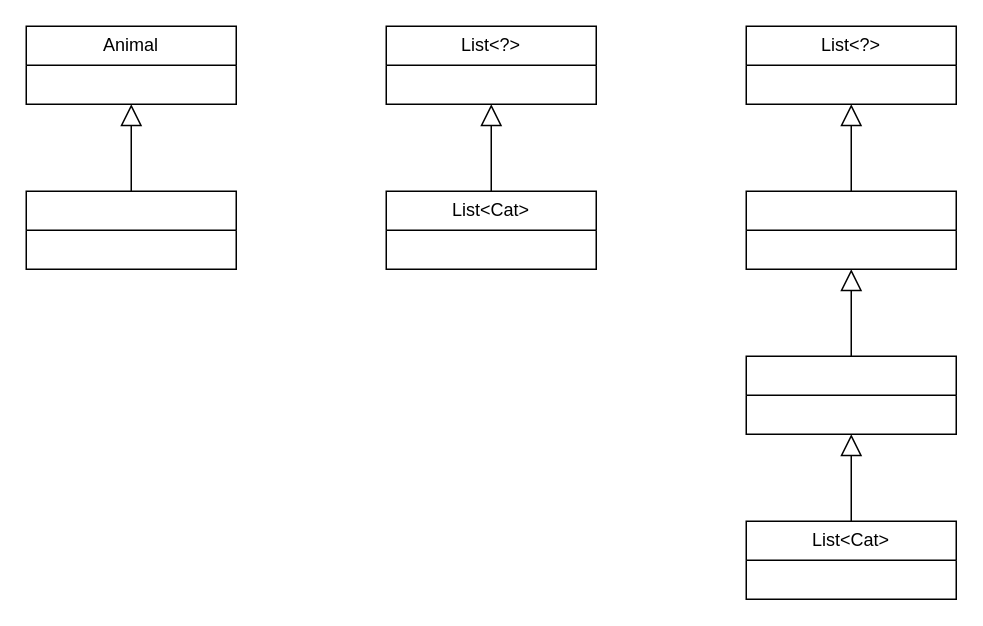
The diagram is 983 pixels wide and 626 high, and some of its shapes have lost their labels. Each missing label, with the box of its shape:
Cat: (25, 190, 236, 269)
List<? extends Animal>: (745, 190, 956, 269)
List<? extends Cat>: (745, 355, 956, 434)
